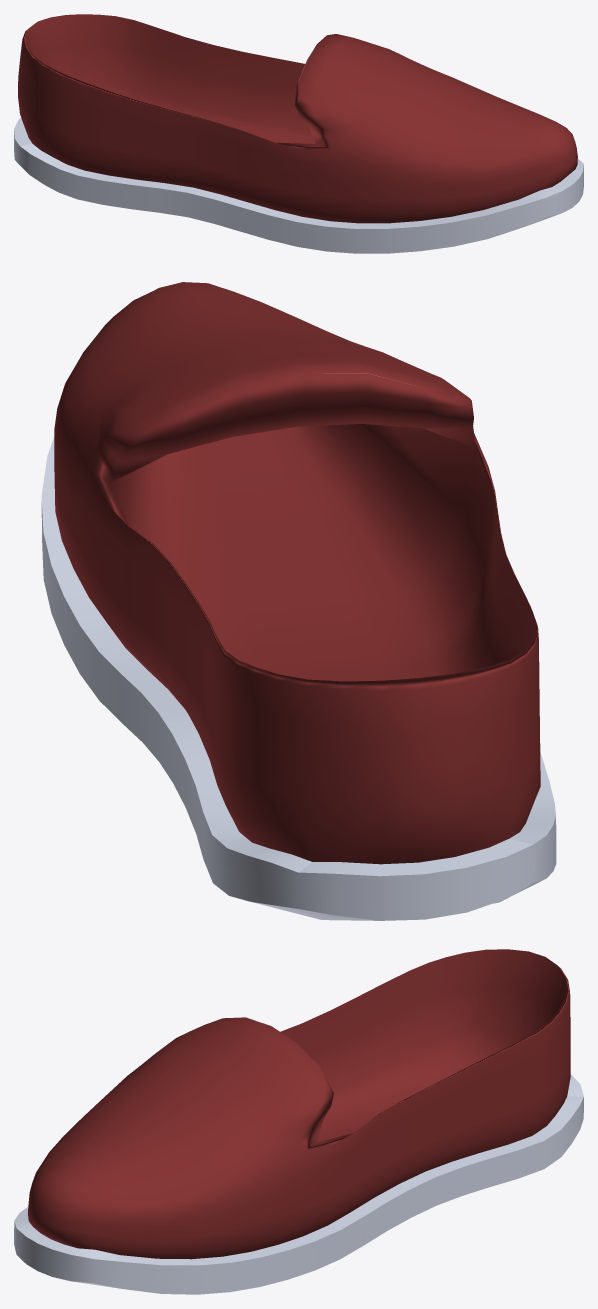
File: Loftheel2.fbx
The picture shows the model from 3 angles, top to bottom: view 1: azimuth 30°, elevation 25°; view 2: azimuth 150°, elevation 25°; view 3: azimuth 270°, elevation 25°; orthographic projection. The views are drawn at different scales.
Parts seen in each view (by area): view 1: FlatBottom1; view 2: FlatBottom1; view 3: FlatBottom1.
Part boxes in pixels (x1=…): FlatBottom1: x1=14, y1=14, x2=583, y2=253; FlatBottom1: x1=41, y1=282, x2=556, y2=920; FlatBottom1: x1=14, y1=949, x2=583, y2=1294.
Size of the model in its own units: 3.26 by 1.32 by 3.45.
Materials: 1 (1 with a texture image).
